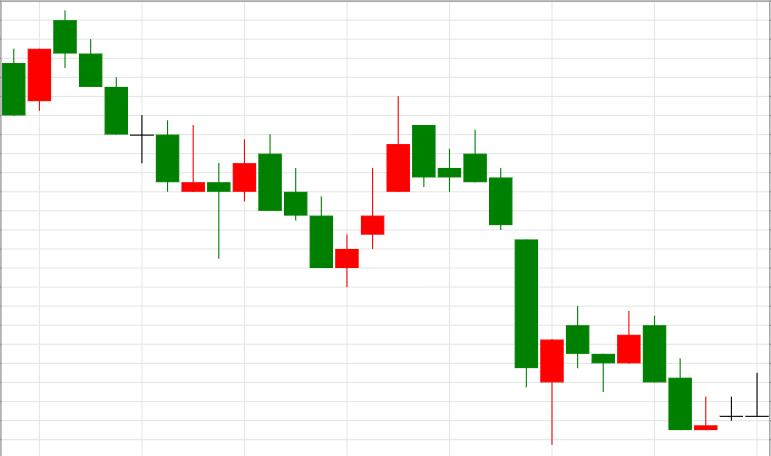hammer_rise: (412, 125, 564, 446)
three_white_soldiers_rise: (233, 96, 409, 287)
